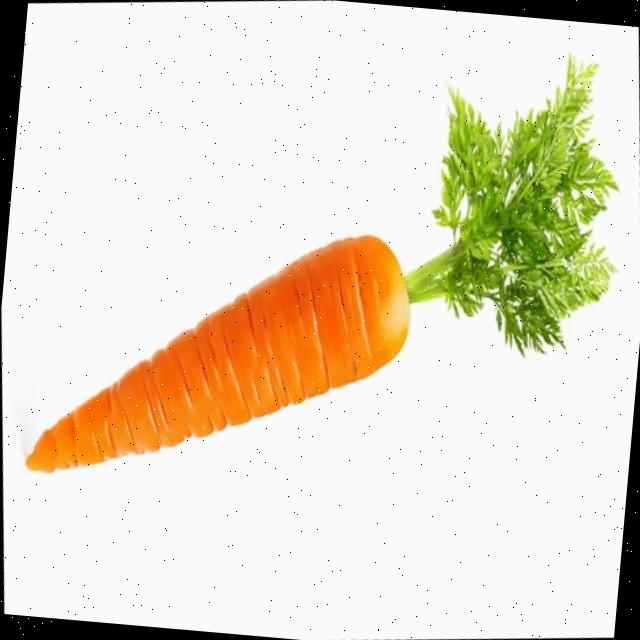carrot: (26, 62, 615, 472)
